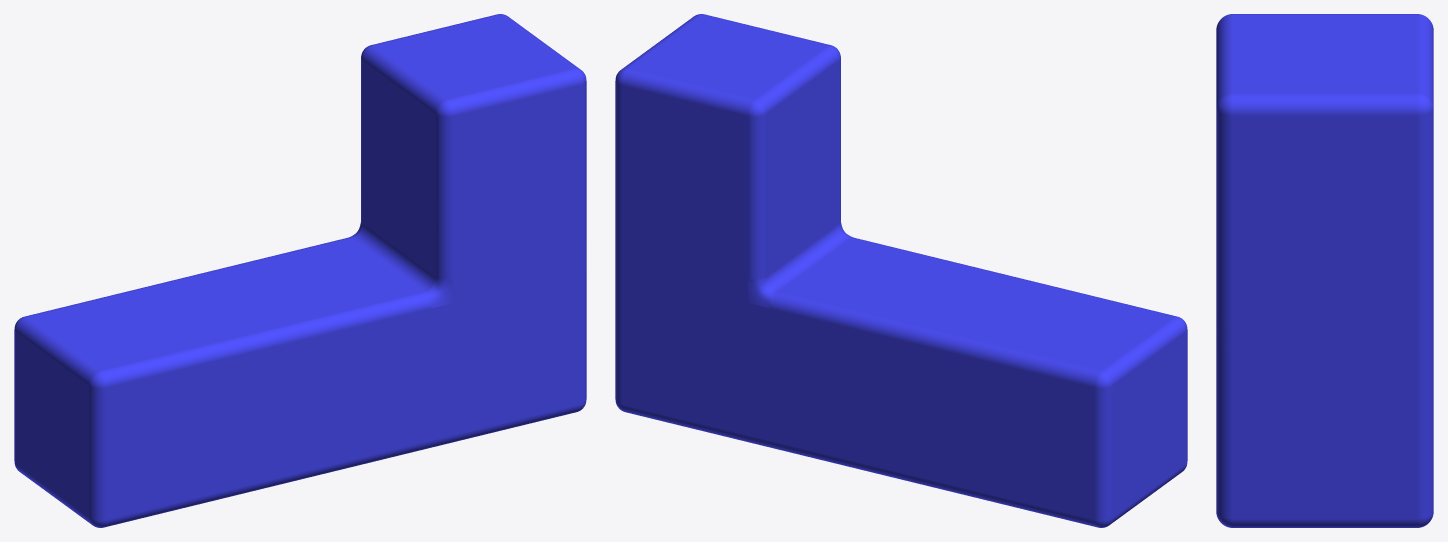
File: blockV3.glb
The picture shows the model from 3 angles, left to right: view 1: azimuth 30°, elevation 25°; view 2: azimuth 150°, elevation 25°; view 3: azimuth 270°, elevation 25°; orthographic projection. The views are drawn at different scales.
Parts seen in each view (by area): view 1: Cube.001; view 2: Cube.001; view 3: Cube.001.
Part boxes in pixels (x1,y1,x2,y2): Cube.001: (14, 14, 586, 527); Cube.001: (615, 14, 1187, 527); Cube.001: (1216, 14, 1433, 527).
Bounding box in the file's own units: 6.65 × 4.4 × 2.
